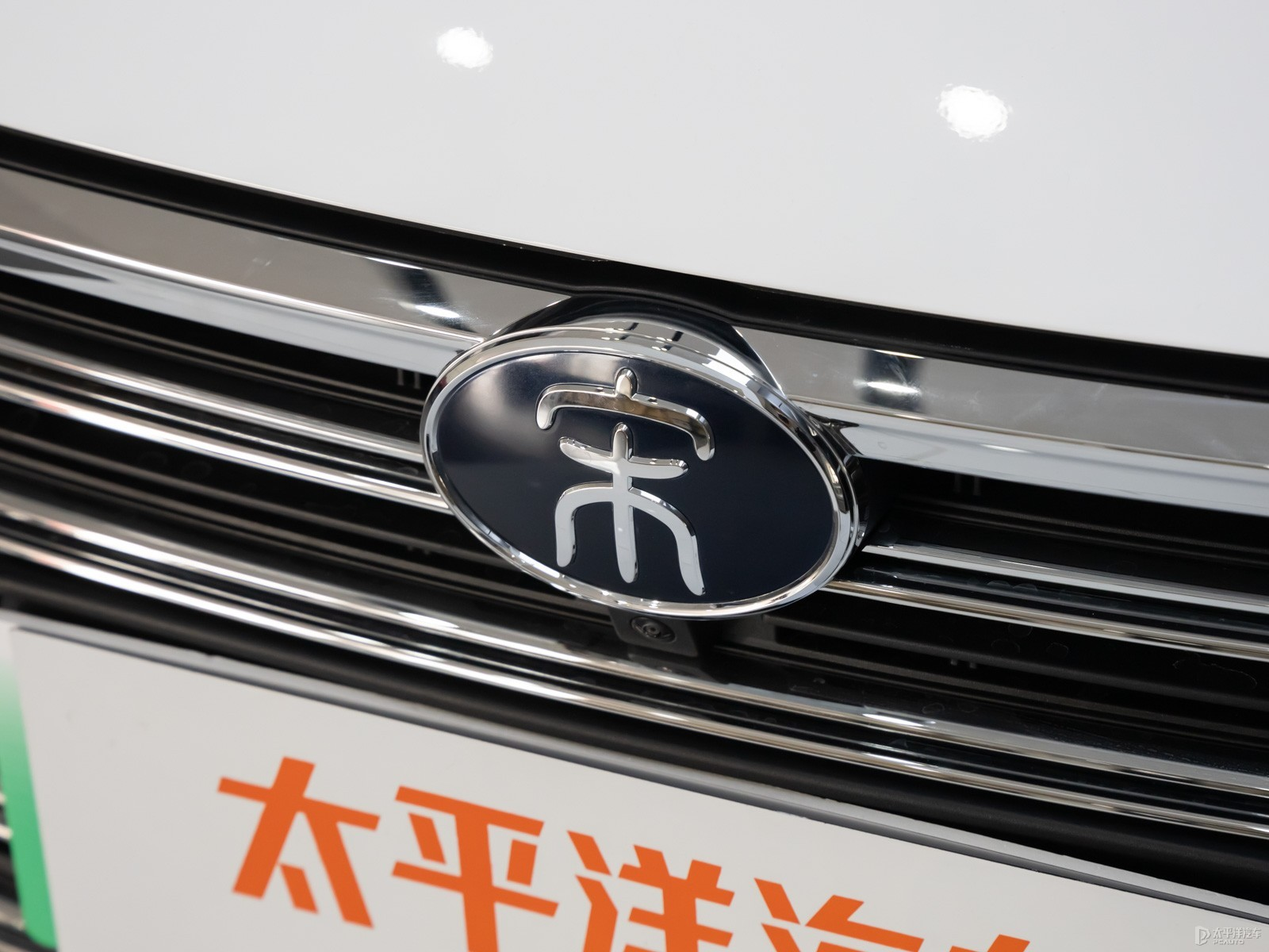BYD Song: (422, 336, 850, 615)
